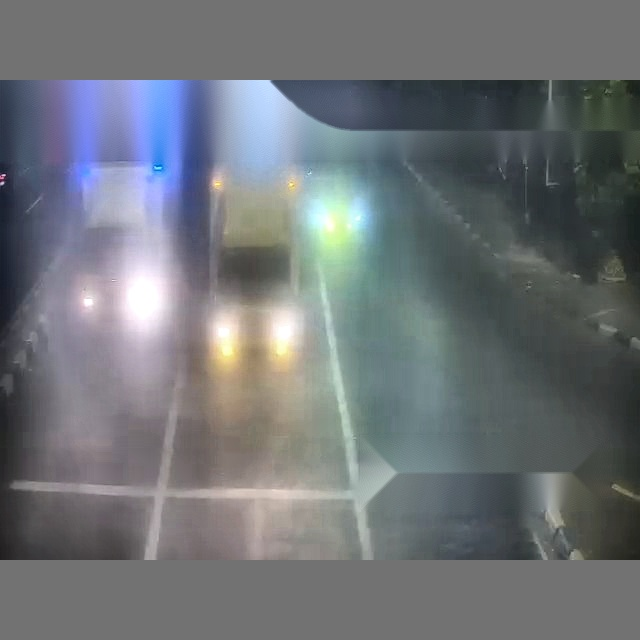Bis: (184, 87, 640, 558)
